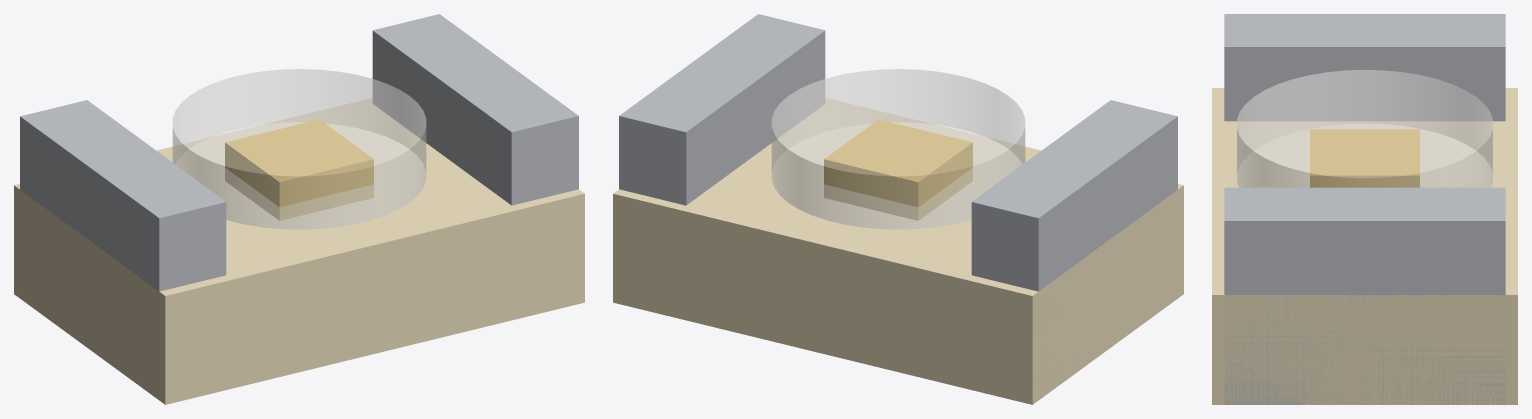
File: led-0805.glb
3 views of the same model, side by side, from view 1: azimuth 30°, elevation 25°; view 2: azimuth 150°, elevation 25°; view 3: azimuth 270°, elevation 25° (orthographic).
Visible parts, largest first — view 1: object 1, object 4, body, object 2; view 2: object 1, object 4, body, object 2; view 3: object 4, object 1, body, object 2.
Part boxes in pixels (x1,y1,x2,y2): object 1: [14, 98, 584, 404]; object 4: [20, 14, 578, 291]; body: [172, 69, 426, 229]; object 2: [225, 119, 373, 220]; object 1: [613, 98, 1183, 404]; object 4: [619, 14, 1177, 390]; body: [771, 69, 1025, 229]; object 2: [824, 119, 972, 220]; object 4: [1224, 14, 1505, 404]; object 1: [1212, 88, 1517, 404]; body: [1237, 69, 1492, 187]; object 2: [1310, 129, 1419, 187].
Bounding box in the file's own units: 0.002 × 0.00083 × 0.00125.
